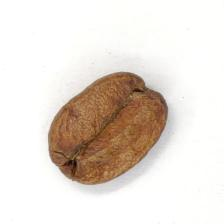NG: (60, 86, 145, 170)
